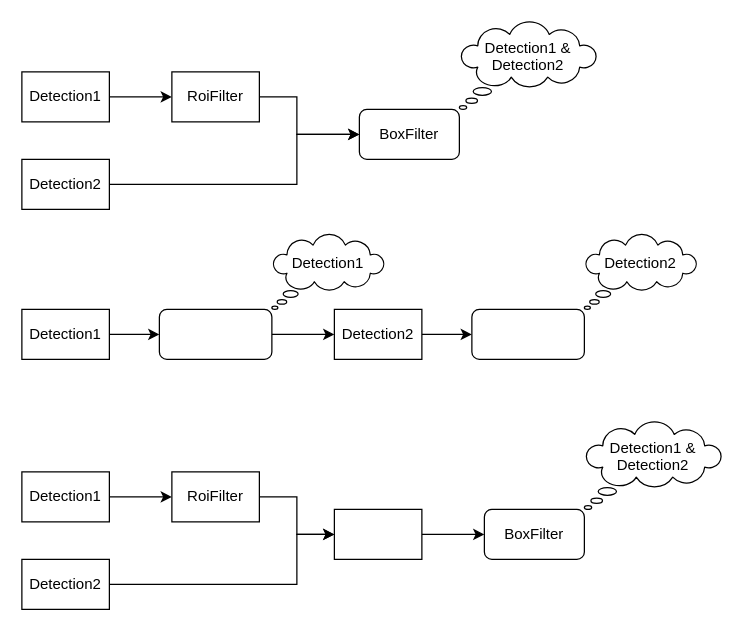
This 744x631 diagram has some shape labels left out. The centre of each missing label's shape, as x and y in pixels:
BoxFilter1: point (215, 333)
BoxFilter2: point (527, 333)
BoxMerge: point (377, 533)
